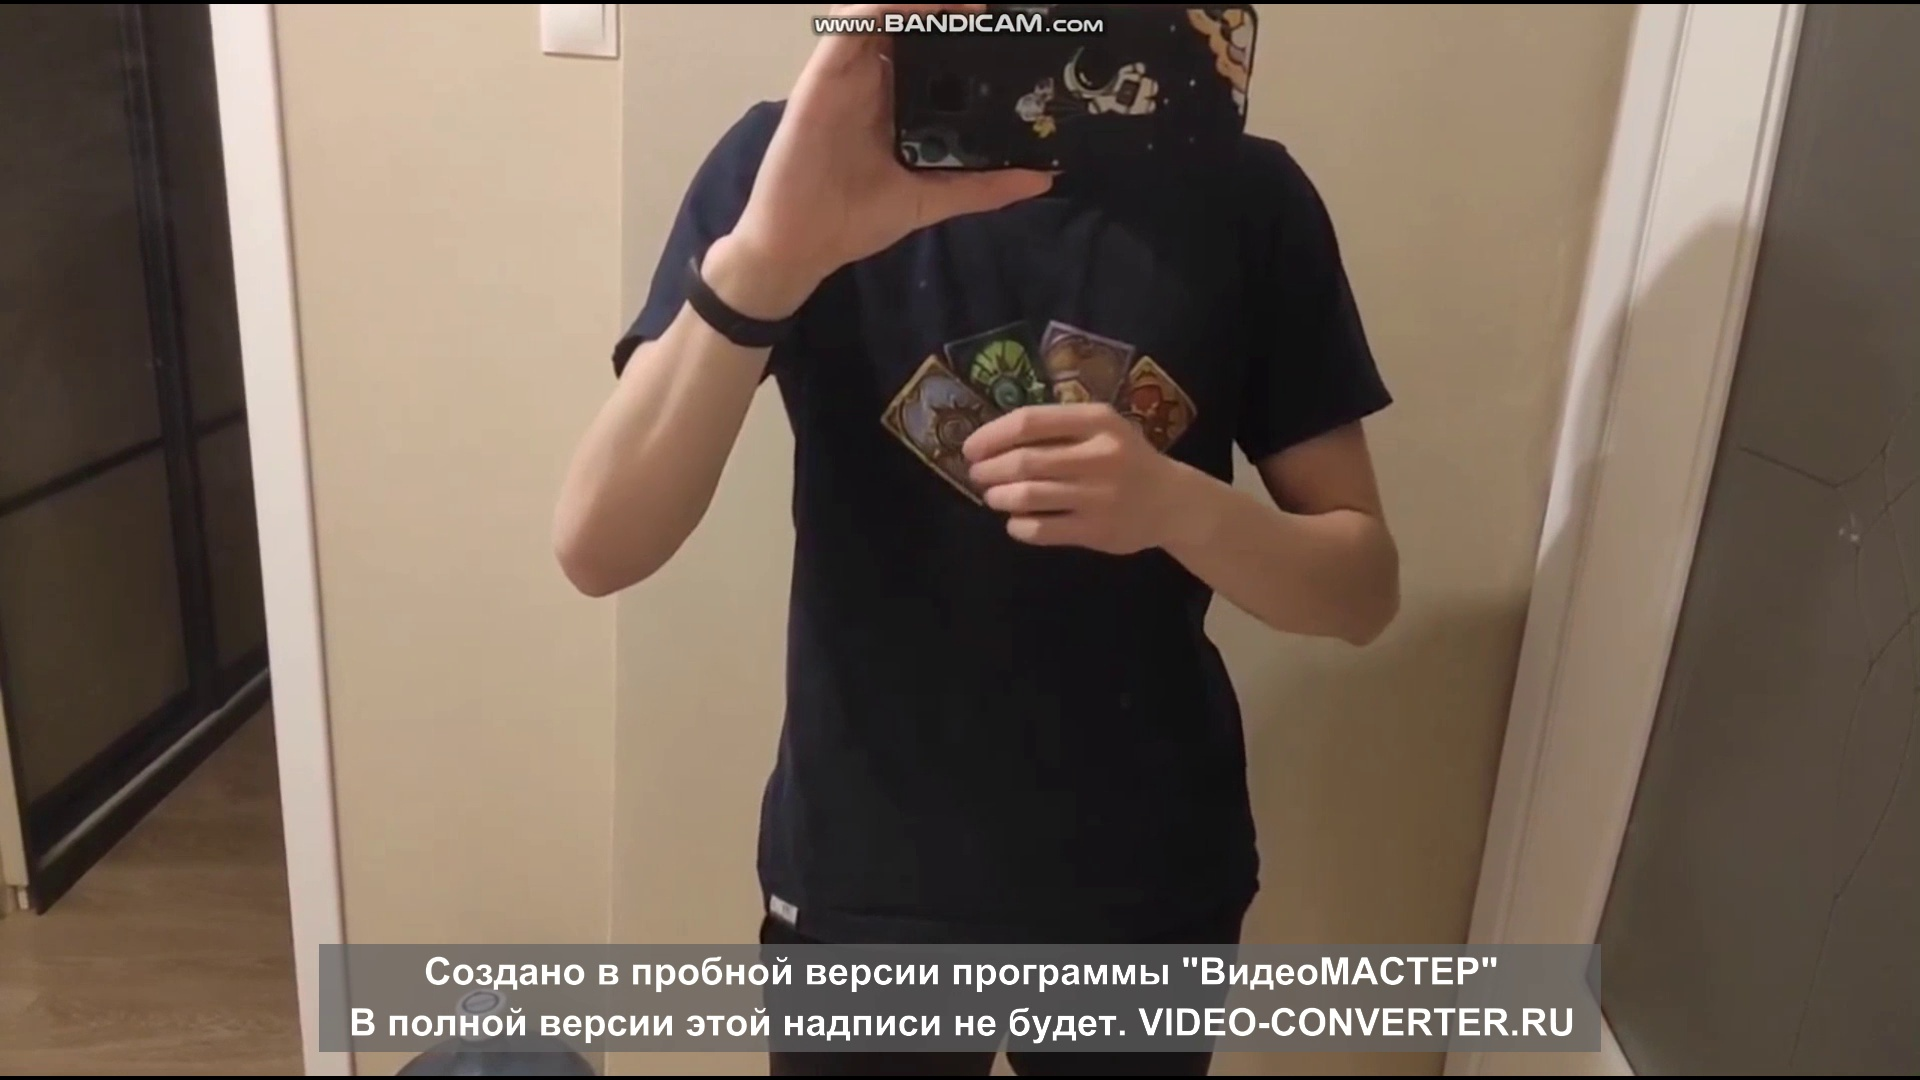Кисть: (959, 397, 1170, 556)
